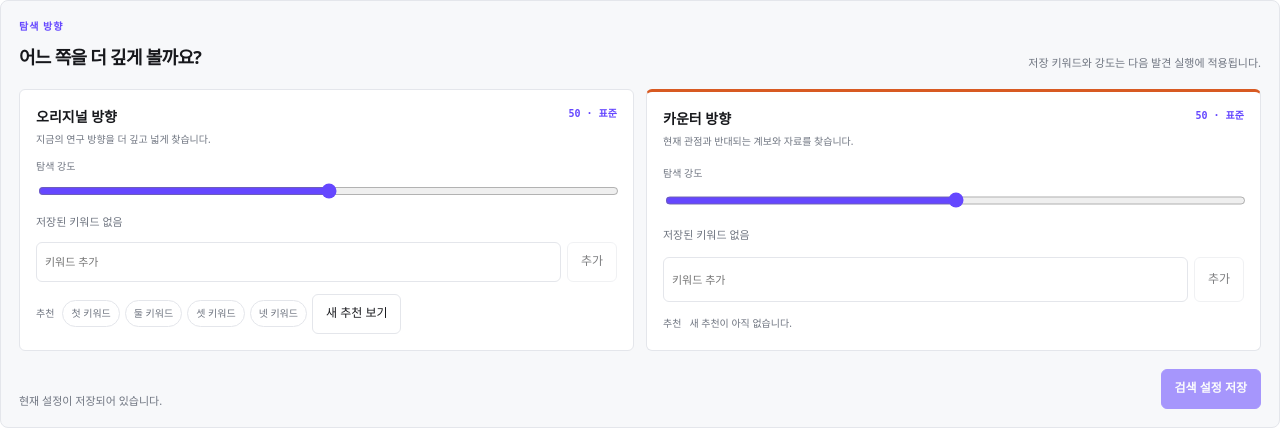
Test case: DiscoveryDirectionPanel › rotates four source-backed recommendations within its lane
The image size is (1280, 445).
expect the button "첫 키워드" is shown: met, box [62,300,120,327]
expect the text "다른 키워드" is not shown: met
Click the button "새 추천 보기" at (357, 314), box [312,294,402,334]
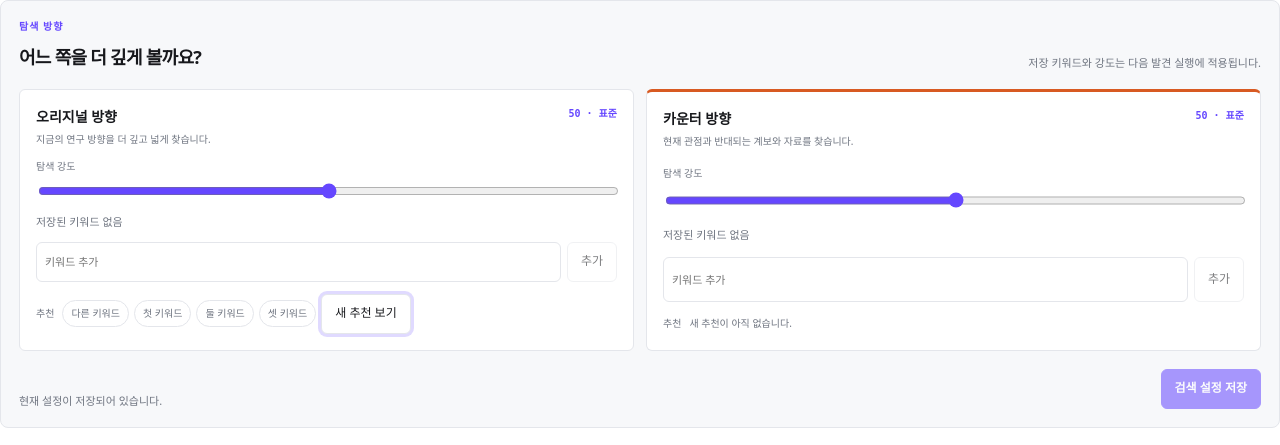
expect the button "다른 키워드" is shown: met, box [62,300,129,327]
